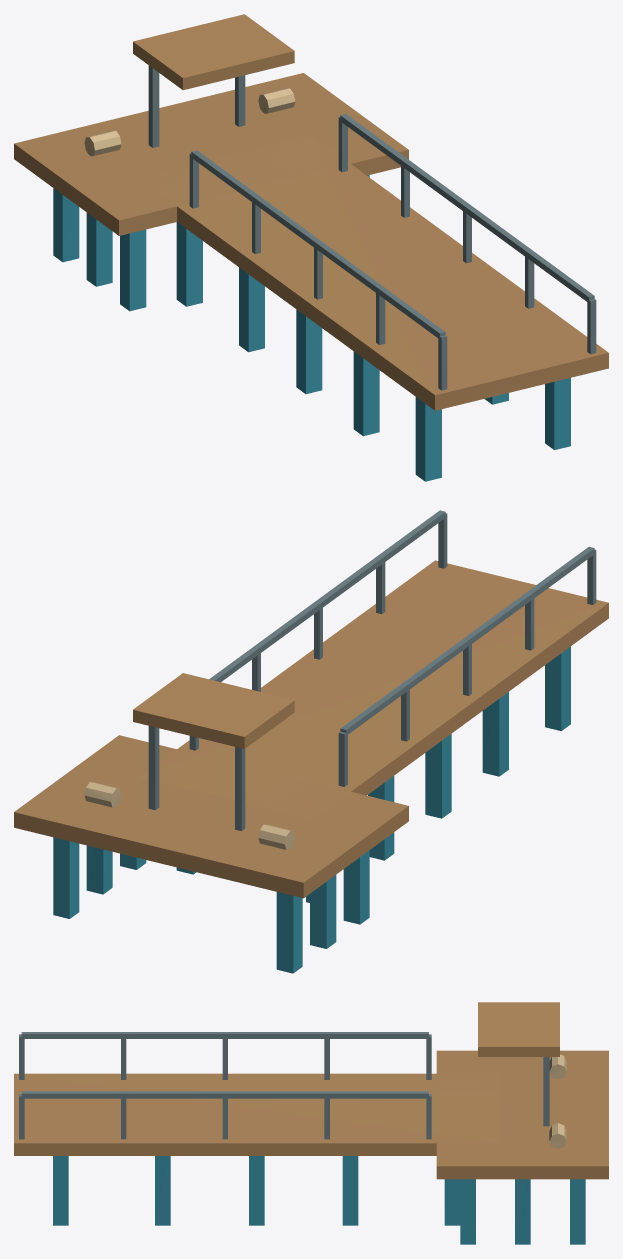
The model's file is fishing-pier.source.glb.
3 views of the same model, one above another, from view 1: azimuth 30°, elevation 25°; view 2: azimuth 150°, elevation 25°; view 3: azimuth 270°, elevation 25° (orthographic). The views are drawn at different scales.
Parts seen in each view (by area): view 1: coastal-pier-shore-approach-deck-mesh, coastal-pier-wide-end-deck-mesh, coastal-pier-small-service-canopy-mesh, coastal-pier-rail-top--0.9-mesh, coastal-pier-rail-top-0.9-mesh, coastal-pier-end-pile--1.35--2.7-mesh, coastal-pier-saltwater-pile--0.78-2.5-mesh, coastal-pier-saltwater-pile--0.78--2.5-mesh, coastal-pier-saltwater-pile--0.78-1.2-mesh, coastal-pier-saltwater-pile--0.78-0-mesh, coastal-pier-saltwater-pile--0.78--1.2-mesh, coastal-pier-saltwater-pile-0.78-2.5-mesh (+5 smaller); view 2: coastal-pier-shore-approach-deck-mesh, coastal-pier-wide-end-deck-mesh, coastal-pier-small-service-canopy-mesh, coastal-pier-rail-top--0.9-mesh, coastal-pier-rail-top-0.9-mesh, coastal-pier-end-pile--1.35--4.1-mesh, coastal-pier-end-pile-1.35--4.1-mesh, coastal-pier-saltwater-pile--0.78-0-mesh, coastal-pier-saltwater-pile--0.78-1.2-mesh, coastal-pier-saltwater-pile--0.78-2.5-mesh, coastal-pier-end-pile--1.35--3.4-mesh, coastal-pier-end-pile--1.35--2.7-mesh (+6 smaller); view 3: coastal-pier-shore-approach-deck-mesh, coastal-pier-wide-end-deck-mesh, coastal-pier-small-service-canopy-mesh, coastal-pier-rail-top-0.9-mesh, coastal-pier-rail-top--0.9-mesh, coastal-pier-saltwater-pile-0.78--1.2-mesh, coastal-pier-saltwater-pile-0.78-0-mesh, coastal-pier-saltwater-pile-0.78-1.2-mesh, coastal-pier-saltwater-pile-0.78-2.5-mesh, coastal-pier-end-pile-1.35--4.1-mesh, coastal-pier-end-pile-1.35--3.4-mesh, coastal-pier-end-pile-1.35--2.7-mesh (+4 smaller).
Part boxes in pixels (box(x1,y1,x2,y2)): coastal-pier-shore-approach-deck-mesh: box(139, 136, 608, 410); coastal-pier-wide-end-deck-mesh: box(14, 73, 408, 235); coastal-pier-small-service-canopy-mesh: box(133, 14, 294, 90); coastal-pier-rail-top--0.9-mesh: box(191, 150, 445, 337); coastal-pier-rail-top-0.9-mesh: box(340, 114, 594, 302); coastal-pier-end-pile--1.35--2.7-mesh: box(120, 229, 146, 311); coastal-pier-saltwater-pile--0.78-2.5-mesh: box(415, 397, 441, 481); coastal-pier-saltwater-pile--0.78--2.5-mesh: box(176, 222, 202, 306); coastal-pier-saltwater-pile--0.78-1.2-mesh: box(353, 351, 379, 436); coastal-pier-saltwater-pile--0.78-0-mesh: box(296, 309, 322, 394); coastal-pier-saltwater-pile--0.78--1.2-mesh: box(239, 267, 264, 352); coastal-pier-saltwater-pile-0.78-2.5-mesh: box(545, 378, 570, 450); coastal-pier-shore-approach-deck-mesh: box(139, 560, 608, 819); coastal-pier-wide-end-deck-mesh: box(14, 735, 408, 898); coastal-pier-small-service-canopy-mesh: box(133, 673, 294, 748); coastal-pier-rail-top--0.9-mesh: box(340, 546, 594, 735); coastal-pier-rail-top-0.9-mesh: box(209, 510, 445, 681); coastal-pier-end-pile--1.35--4.1-mesh: box(276, 892, 302, 973); coastal-pier-end-pile-1.35--4.1-mesh: box(53, 837, 79, 918); coastal-pier-saltwater-pile--0.78-0-mesh: box(425, 734, 451, 818); coastal-pier-saltwater-pile--0.78-1.2-mesh: box(482, 692, 508, 776); coastal-pier-saltwater-pile--0.78-2.5-mesh: box(545, 646, 570, 731); coastal-pier-end-pile--1.35--3.4-mesh: box(310, 875, 336, 948); coastal-pier-end-pile--1.35--2.7-mesh: box(343, 850, 369, 924); coastal-pier-shore-approach-deck-mesh: box(14, 1073, 499, 1155); coastal-pier-wide-end-deck-mesh: box(436, 1050, 608, 1179); coastal-pier-small-service-canopy-mesh: box(478, 1002, 559, 1056); coastal-pier-rail-top-0.9-mesh: box(21, 1091, 428, 1098); coastal-pier-rail-top--0.9-mesh: box(21, 1032, 428, 1038); coastal-pier-saltwater-pile-0.78--1.2-mesh: box(342, 1156, 358, 1225); coastal-pier-saltwater-pile-0.78-0-mesh: box(249, 1156, 264, 1225); coastal-pier-saltwater-pile-0.78-1.2-mesh: box(155, 1156, 170, 1225); coastal-pier-saltwater-pile-0.78-2.5-mesh: box(53, 1156, 68, 1225); coastal-pier-end-pile-1.35--4.1-mesh: box(570, 1179, 585, 1244); coastal-pier-end-pile-1.35--3.4-mesh: box(515, 1179, 530, 1244); coastal-pier-end-pile-1.35--2.7-mesh: box(460, 1179, 475, 1244).
Size of the model in its own units: 3.5 by 2.42 by 7.6.
